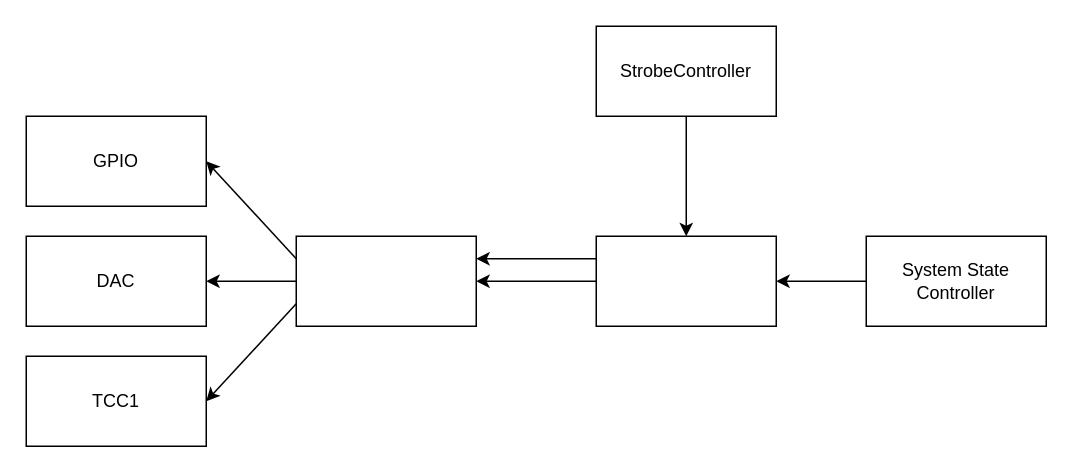
The diagram is 1073 pixels wide and 473 high, and some of its shapes have lost their labels. The box of each missing label's shape, as (x1, y1, x2, y2) in pixels:
Brightness Controller: (595, 235, 776, 326)
LightController: (295, 235, 476, 326)
